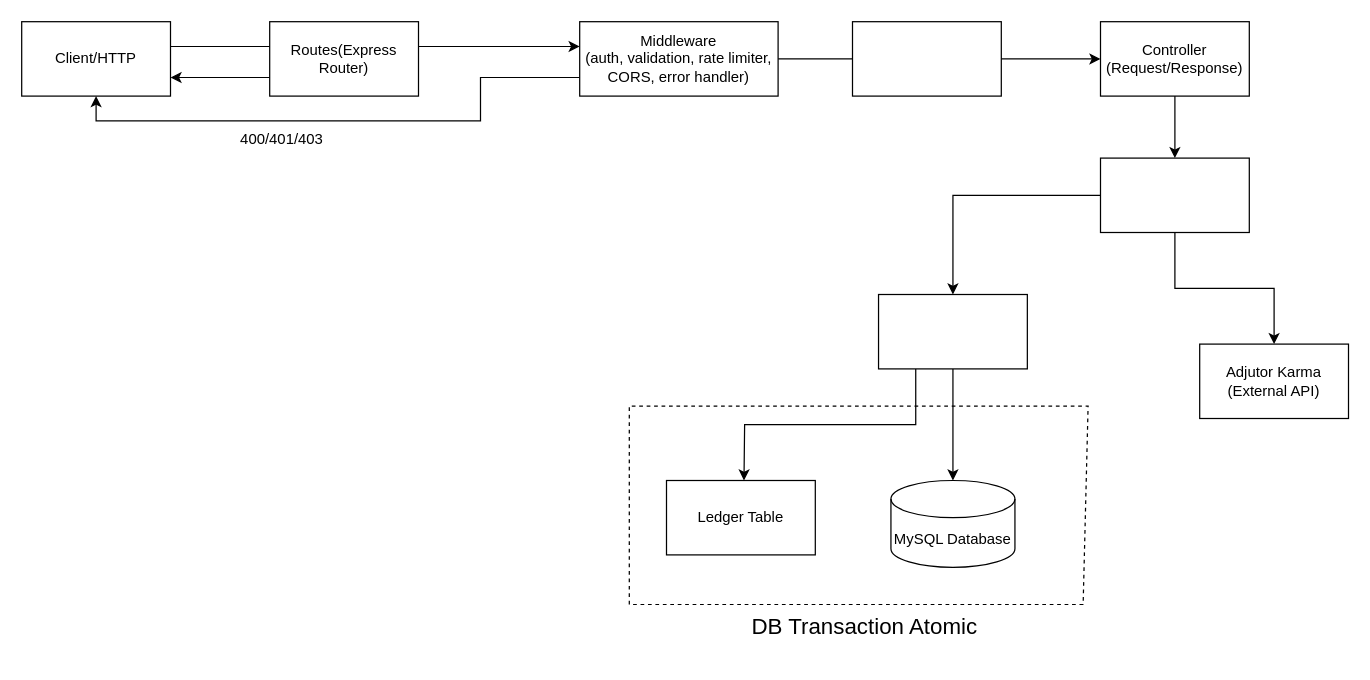
This 1370x680 diagram has some shape labels left out. Here are the shapes that lost their labels. From the top down, the box of each, then its label:
(851, 20, 1001, 96): Idempotency Key
(1099, 157, 1249, 232): Service(Business Logic)
(877, 293, 1027, 369): Repositories (Knex Query Builder)
